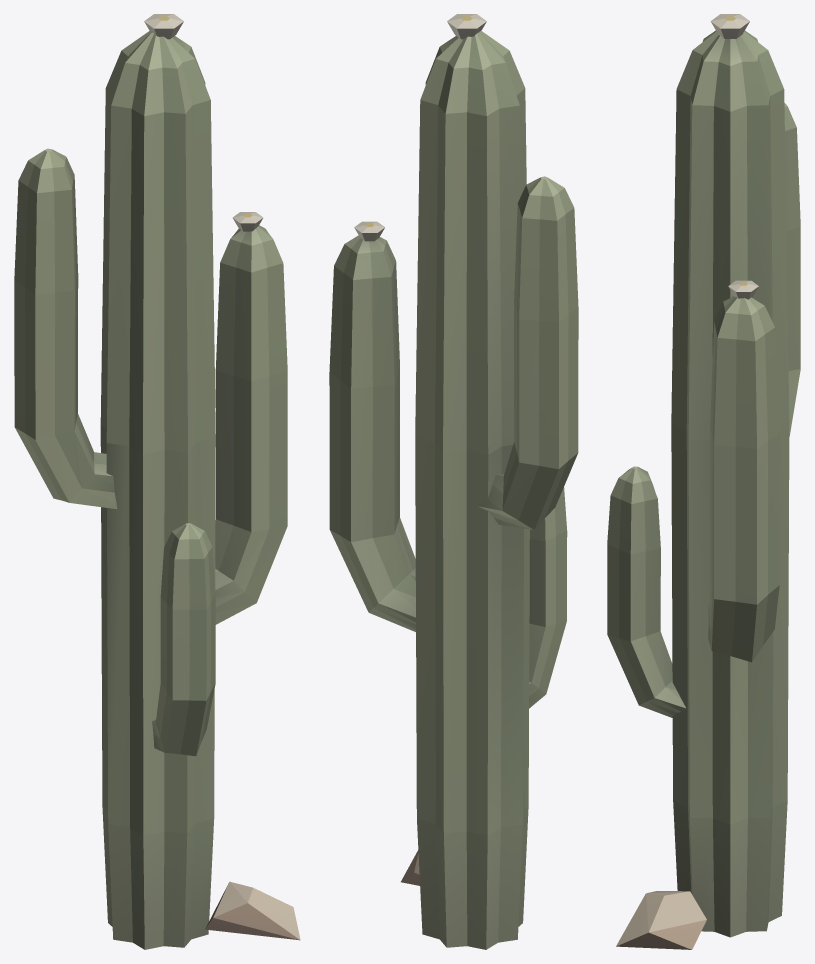
Rendered from saguaro.glb.
3 renders of one model, left to right at view 1: azimuth 30°, elevation 25°; view 2: azimuth 150°, elevation 25°; view 3: azimuth 270°, elevation 25°, orthographic.
Bounding box in the file's own units: 1.27 × 4.5 × 0.8784.
